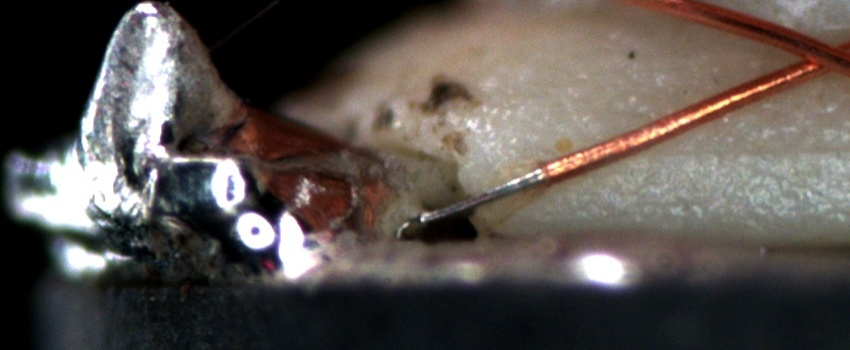CL: (773, 28, 847, 83)
DL: (616, 120, 850, 184)
TS: (400, 168, 545, 229)
TTCW: (412, 138, 605, 229)
